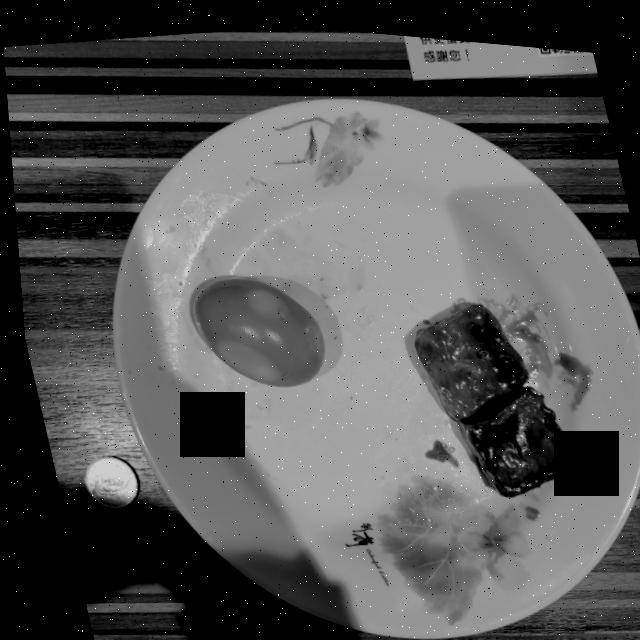coin: (77, 455, 131, 507)
creamy tofu: (409, 296, 577, 488)
soy egg: (188, 273, 319, 382)
